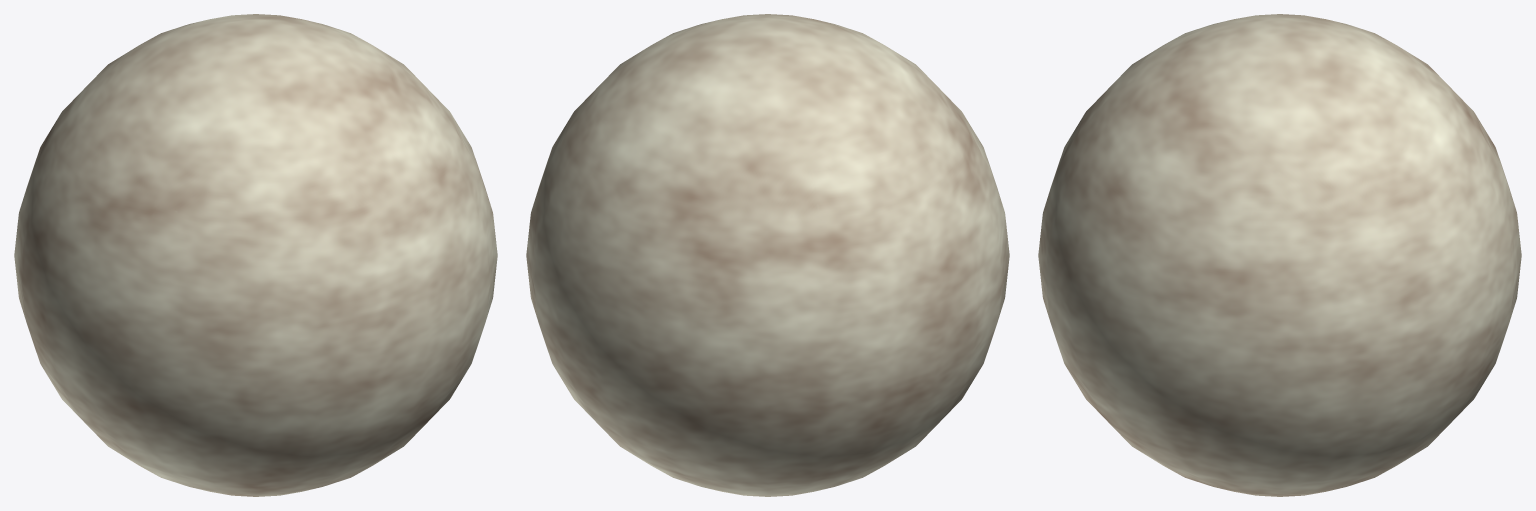
File: red_dwarf.glb
3 views of the same model, side by side, from view 1: azimuth 30°, elevation 25°; view 2: azimuth 150°, elevation 25°; view 3: azimuth 270°, elevation 25° (orthographic).
Visible parts, largest first — view 1: red_dwarf_textured_mesh; view 2: red_dwarf_textured_mesh; view 3: red_dwarf_textured_mesh.
Boxes of the visible parts, <box> form: red_dwarf_textured_mesh: <box>14,14,497,496</box>; red_dwarf_textured_mesh: <box>526,14,1009,496</box>; red_dwarf_textured_mesh: <box>1038,14,1521,496</box>.
Bounding box in the file's own units: 1.32 × 1.32 × 1.32.
1 material, 1 textured.
